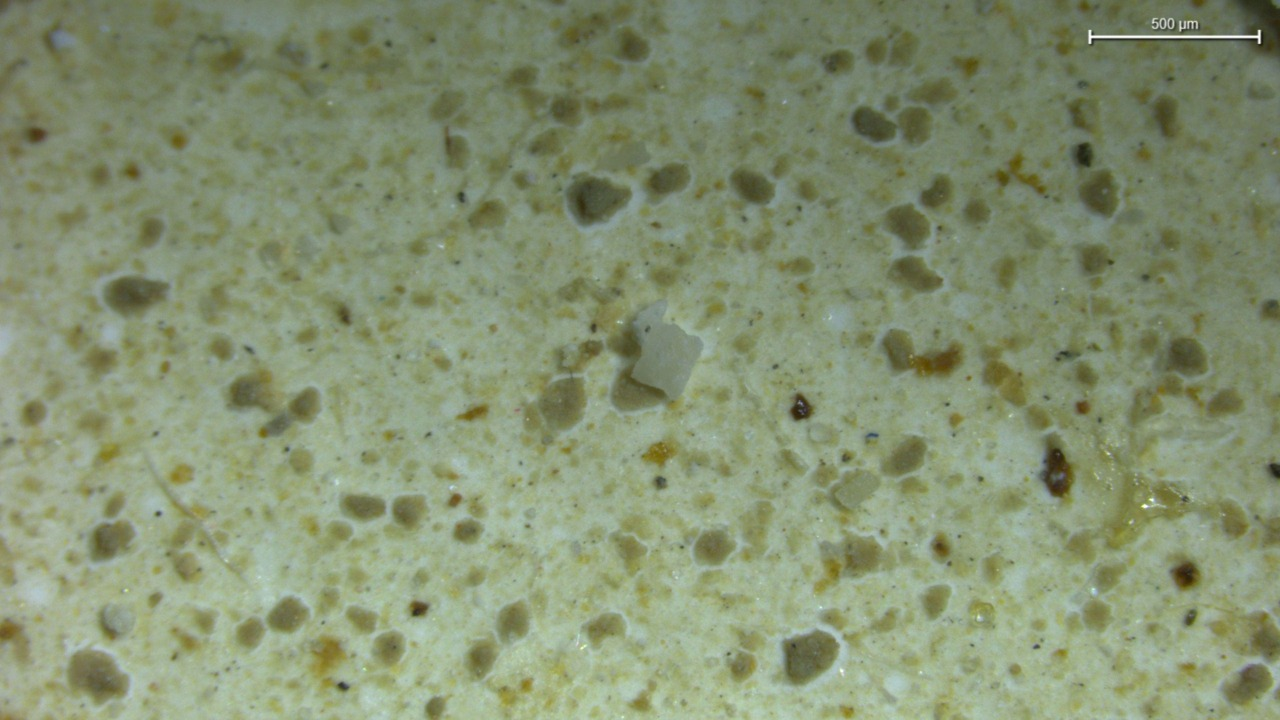microplastic_fragment: (631, 299, 703, 400), (832, 471, 880, 508), (100, 603, 135, 639)
